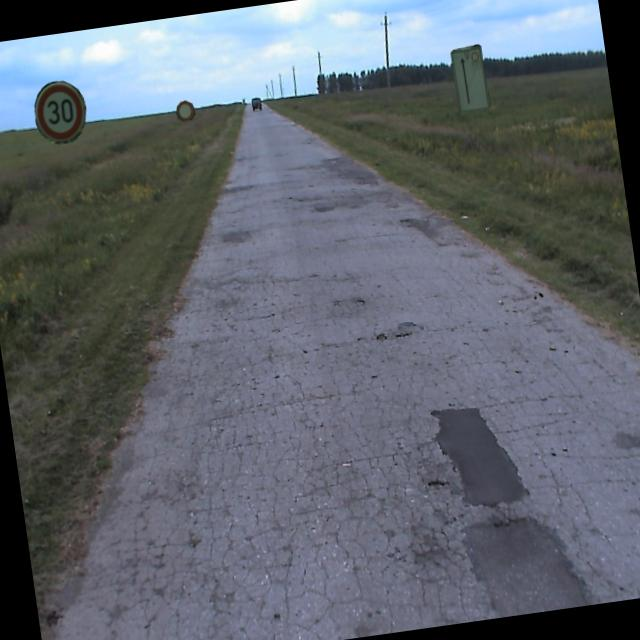road: (56, 104, 640, 640)
